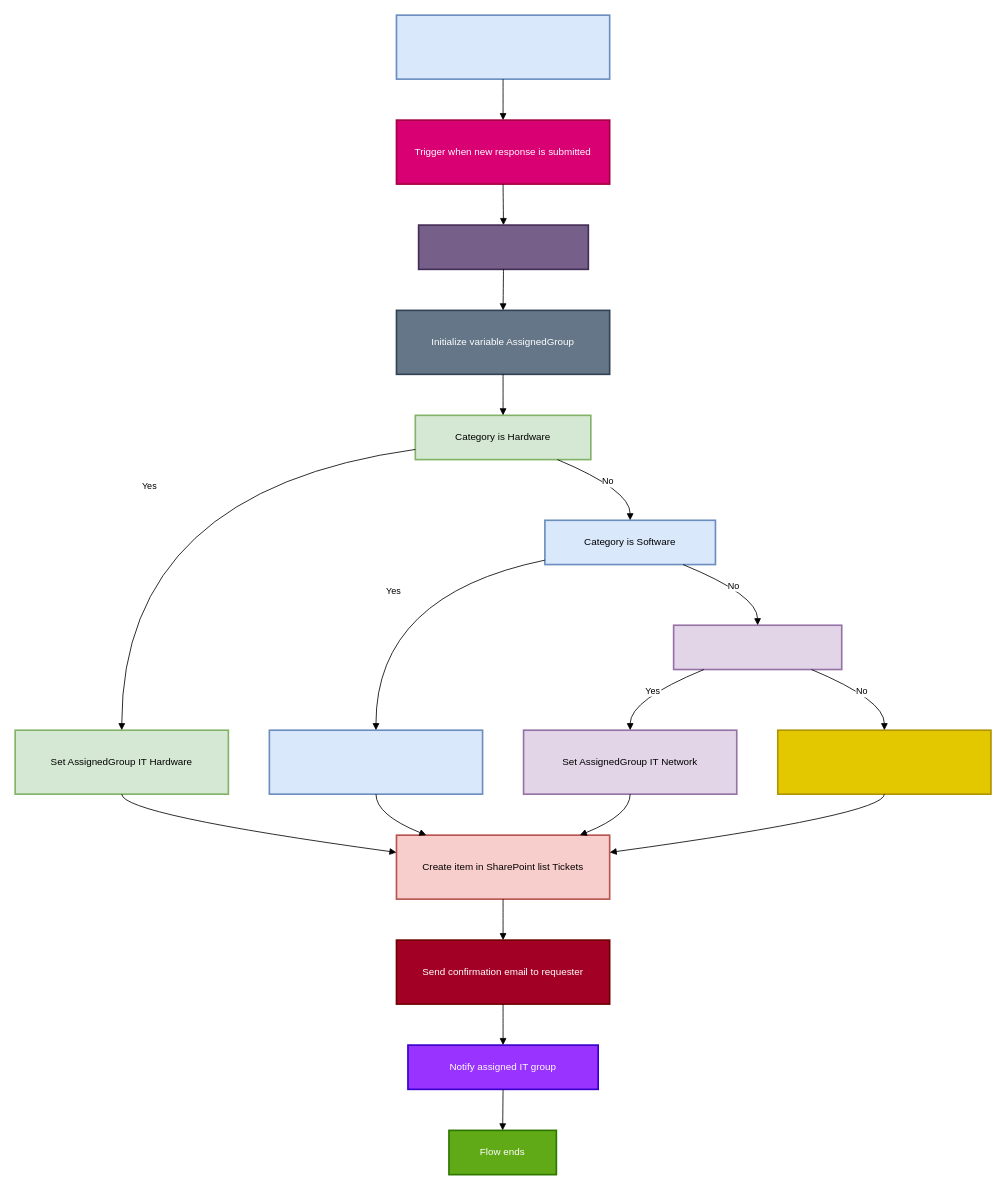
This 1005x1189 diagram has some shape labels left out. The shapes that lost their labels are listed below. From the top down, each one's centre as x and y in pixels, then its label:
the point at 502,47: User submits IT support form
the point at 503,247: Get response details
the point at 757,647: Category is Network
the point at 375,762: Set AssignedGroup IT Software
the point at 884,762: Set AssignedGroup IT ServiceDesk default
